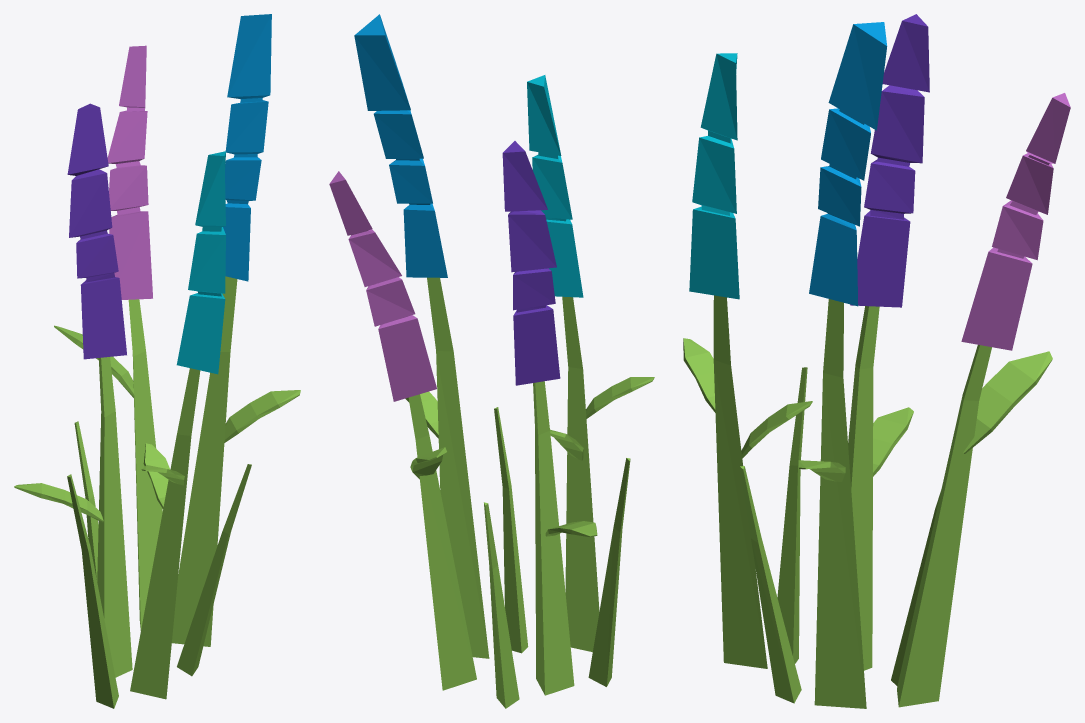
File: flora2_pastel_plume.glb
3 renders of one model, left to right at view 1: azimuth 30°, elevation 25°; view 2: azimuth 150°, elevation 25°; view 3: azimuth 270°, elevation 25°, orthographic. The views are drawn at different scales.
Parts seen in each view (by area): view 1: Node; view 2: Node; view 3: Node.
Boxes of the visible parts, x1,y1,x2,y2 form: Node: (14, 14, 300, 708); Node: (329, 14, 654, 708); Node: (683, 14, 1070, 708).
Size of the model in its own units: 1.11 by 2.7 by 1.26.
Materials: 1 (1 with a texture image).
